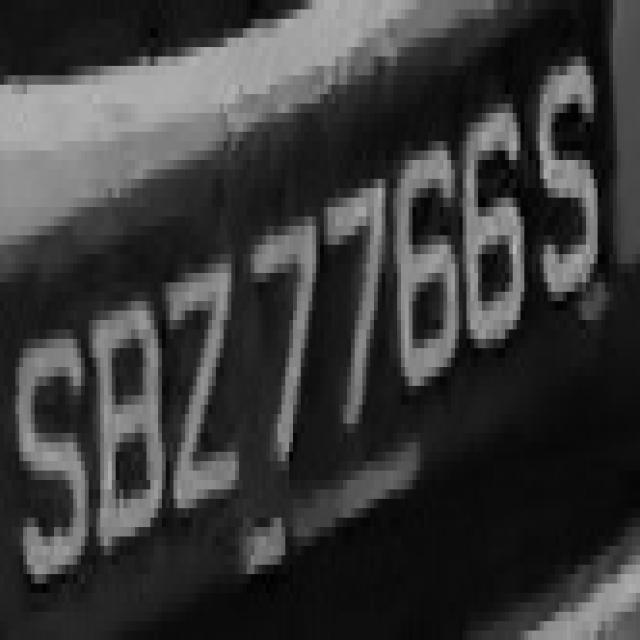6: (451, 56, 528, 376), (389, 122, 459, 414)
7: (235, 188, 328, 480), (308, 160, 394, 452)
B: (85, 263, 166, 546)
S: (8, 302, 92, 602), (532, 38, 605, 320)
Z: (154, 226, 251, 527)
